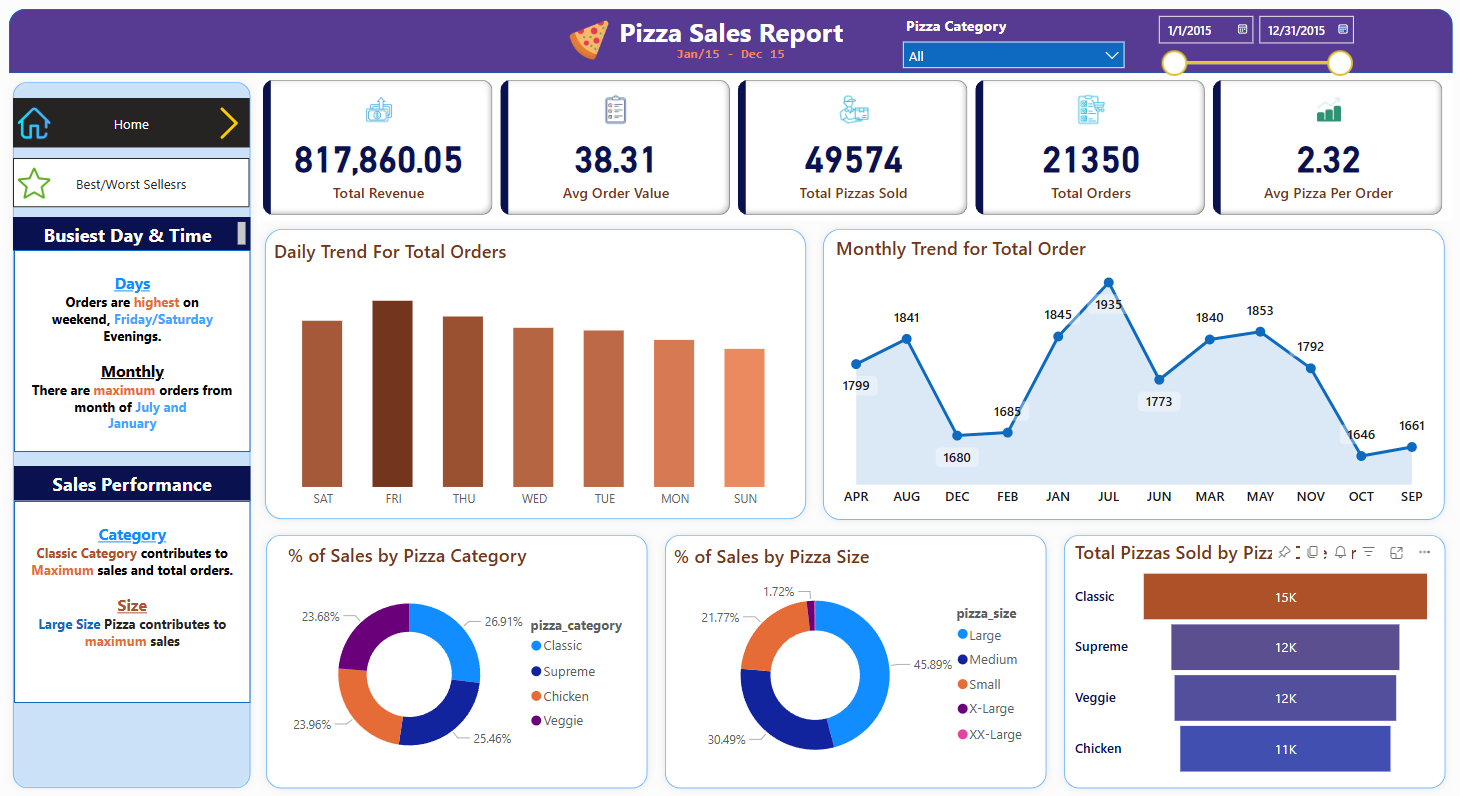

This screenshot's page, from the dashboard's own definition file:
{"tool":"powerbi","page":{"name":"Home","canvas":[1500,820],"ordinal":0},"visuals":[{"type":"cardVisual","title":"KPI","fields":{"Data":["pizza_sales.Total Revenue","pizza_sales.Avg Order Value","pizza_sales.Total Pizzas Sold","pizza_sales.Total Orders","pizza_sales.Avg Pizza Per Order"]},"box":[270.1,75.9,1213.3,149.3],"z":0},{"type":"shape","box":[18.1,10.6,1465.3,65.3],"z":1000},{"type":"textbox","box":[624.8,9.3,252,57.3],"z":2000},{"type":"textbox","box":[686.5,40.7,128.6,31.4],"z":3000},{"type":"image","box":[580.8,15.9,53.3,50.7],"z":4000},{"type":"shape","box":[270.1,225.3,565.3,310.7],"z":5000},{"type":"columnChart","title":"Daily Trend For Total Orders","fields":{"Y":["pizza_sales.Total Orders"],"Category":["pizza_sales.Order Day"]},"box":[282.1,242.6,538.7,282.7],"z":6000},{"type":"shape","box":[836.5,225,647.1,311.4],"z":7000},{"type":"areaChart","title":"Monthly Trend for Total Order","fields":{"Y":["pizza_sales.Total Orders"],"Category":["pizza_sales.Order Month"]},"box":[852.4,239.3,615,283.3],"z":8000},{"type":"shape","box":[14.3,75.7,257.1,732.9],"z":9000},{"type":"shape","box":[270.8,535.9,403.3,273.3],"z":10000},{"type":"shape","box":[675.8,535.9,403.3,273.3],"z":11000},{"type":"textbox","box":[22.5,221.2,240.6,34.4],"z":12000},{"type":"shape","box":[1080.8,535.9,403.3,273.3],"z":13000},{"type":"donutChart","title":"% of Sales by Pizza Category","fields":{"Category":["pizza_sales.pizza_category"],"Y":["pizza_sales.Total Revenue"]},"box":[296.2,551.2,366.2,243.8],"z":14000},{"type":"donutChart","title":"% of Sales by Pizza Size","fields":{"Y":["pizza_sales.Total Revenue"],"Category":["pizza_sales.pizza_size"]},"box":[688.3,551.7,376.7,243.3],"z":15000},{"type":"funnel","title":"Total Pizzas Sold by Pizza Category","fields":{"Category":["pizza_sales.pizza_category"],"Y":["pizza_sales.Total Pizzas Sold"]},"box":[1095.4,548.5,372.3,246.2],"z":16000},{"type":"textbox","box":[23,255,240,205],"z":17000},{"type":"textbox","box":[23,474,240,35],"z":18000},{"type":"textbox","box":[23,509,240,205],"z":19000},{"type":"slicer","fields":{"Values":["pizza_sales.pizza_category"]},"box":[915,11.2,245,61.2],"z":20000},{"type":"slicer","fields":{"Values":["pizza_sales.order_date"]},"box":[1172.2,6.7,217.8,80],"z":21000},{"type":"pageNavigator","box":[22.5,100,240,50],"z":21001},{"type":"pageNavigator","box":[22.5,161.2,240,50],"z":21002},{"type":"image","box":[220,100,42.5,50],"z":21003},{"type":"image","box":[22.5,100,42.5,50],"z":21004},{"type":"image","box":[22.5,161.2,42.5,51.2],"z":21005}]}

Visuals, with their boxes in screenshot pixels (x1, y1, x2, y2), scaled from the page's 1500x820 canvas onto the 1460x796 screenshot:
"KPI" cardVisual: Rect(263, 74, 1444, 219)
shape: Rect(18, 10, 1444, 74)
textbox: Rect(608, 9, 853, 65)
textbox: Rect(668, 40, 793, 70)
image: Rect(565, 15, 617, 65)
shape: Rect(263, 219, 813, 520)
"Daily Trend For Total Orders" columnChart: Rect(275, 235, 799, 510)
shape: Rect(814, 218, 1444, 521)
"Monthly Trend for Total Order" areaChart: Rect(830, 232, 1428, 507)
shape: Rect(14, 73, 264, 785)
shape: Rect(264, 520, 656, 786)
shape: Rect(658, 520, 1050, 786)
textbox: Rect(22, 215, 256, 248)
shape: Rect(1052, 520, 1445, 786)
"% of Sales by Pizza Category" donutChart: Rect(288, 535, 645, 772)
"% of Sales by Pizza Size" donutChart: Rect(670, 536, 1037, 772)
"Total Pizzas Sold by Pizza Category" funnel: Rect(1066, 532, 1429, 771)
textbox: Rect(22, 248, 256, 447)
textbox: Rect(22, 460, 256, 494)
textbox: Rect(22, 494, 256, 693)
slicer - pizza_sales.pizza_category: Rect(891, 11, 1129, 70)
slicer - pizza_sales.order_date: Rect(1141, 7, 1353, 84)
pageNavigator: Rect(22, 97, 256, 146)
pageNavigator: Rect(22, 156, 256, 205)
image: Rect(214, 97, 256, 146)
image: Rect(22, 97, 63, 146)
image: Rect(22, 156, 63, 206)
